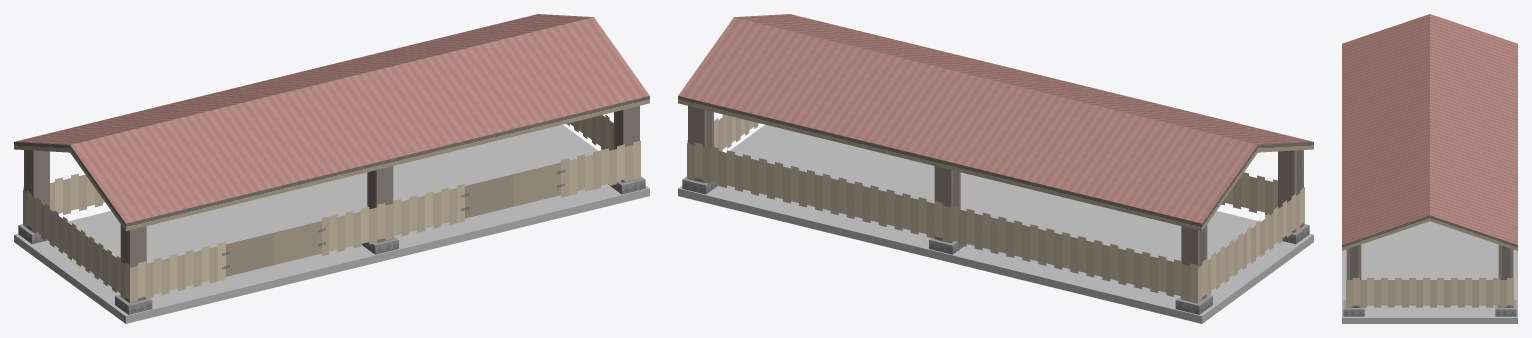
The model's file is 01ce_Cowshed.glb.
The picture shows the model from 3 angles, left to right: view 1: azimuth 30°, elevation 25°; view 2: azimuth 150°, elevation 25°; view 3: azimuth 270°, elevation 25°; orthographic projection. The views are drawn at different scales.
Parts seen in each view (by area): view 1: part_0; view 2: part_0; view 3: part_0.
Part boxes in pixels (x1=…): part_0: x1=14, y1=14, x2=649, y2=323; part_0: x1=678, y1=14, x2=1313, y2=323; part_0: x1=1342, y1=14, x2=1517, y2=323.
Size of the model in its own units: 14.44 by 3.63 by 5.33.
Materials: 1 (1 with a texture image).
